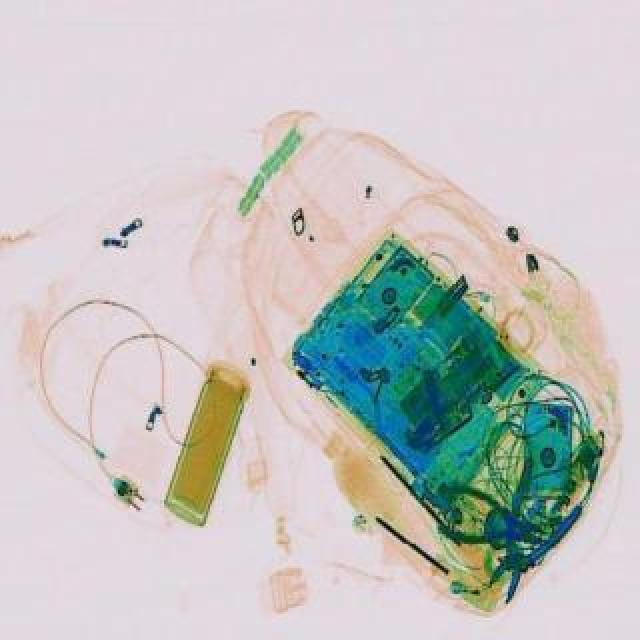wrench: (462, 456, 594, 612), (432, 480, 552, 560)
